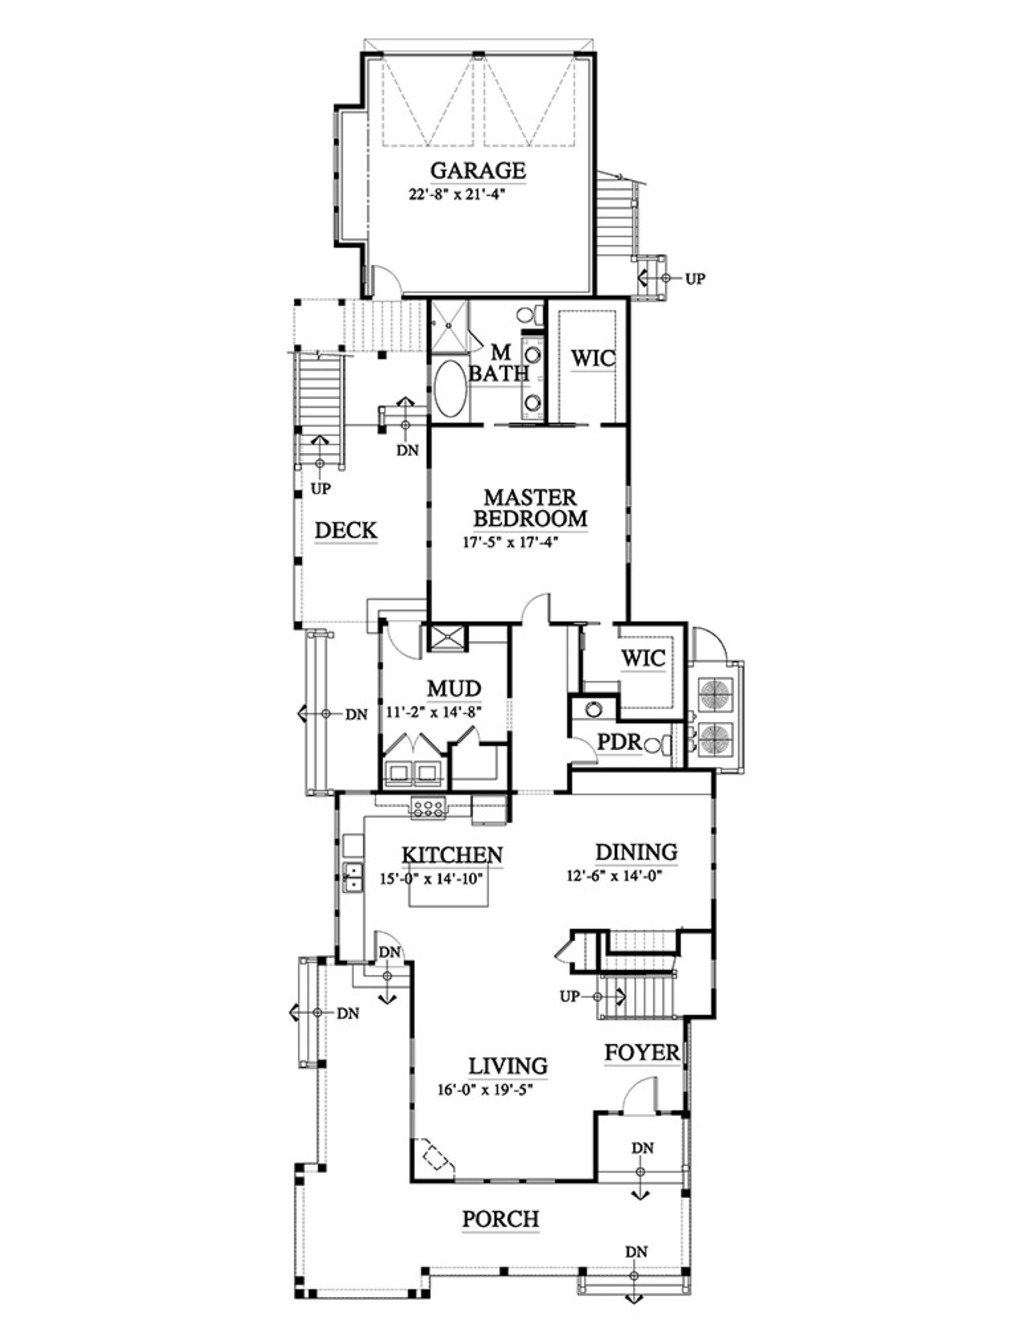door: (613, 1071, 666, 1117), (380, 617, 425, 666), (686, 624, 734, 662), (517, 588, 560, 628), (560, 729, 601, 766), (365, 263, 403, 295)
large_sink: (506, 295, 546, 326), (638, 731, 669, 760)
stairs: (589, 156, 703, 308), (556, 932, 686, 1015), (290, 345, 349, 491), (290, 298, 427, 357)
tub: (428, 355, 470, 425)
twin_sink: (337, 857, 369, 898)
windows: (328, 111, 352, 242)
